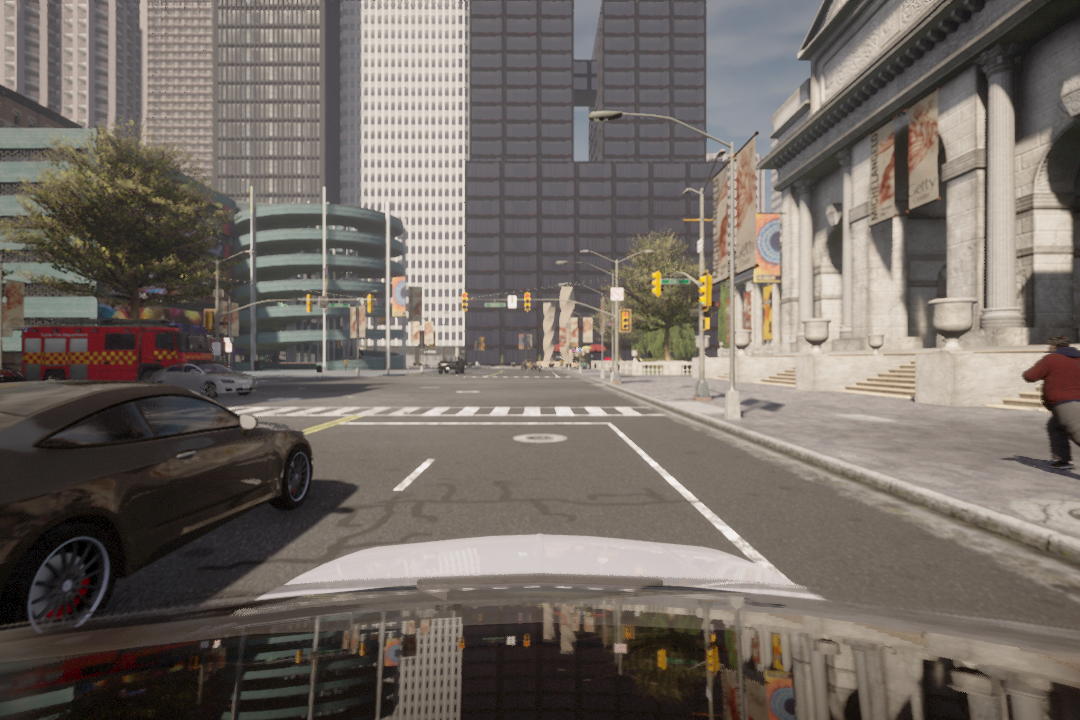TrafficLight: (698, 273, 712, 312), (652, 271, 663, 297), (620, 310, 631, 334), (523, 291, 532, 314), (461, 290, 468, 315)
walkside: (229, 400, 666, 421)
